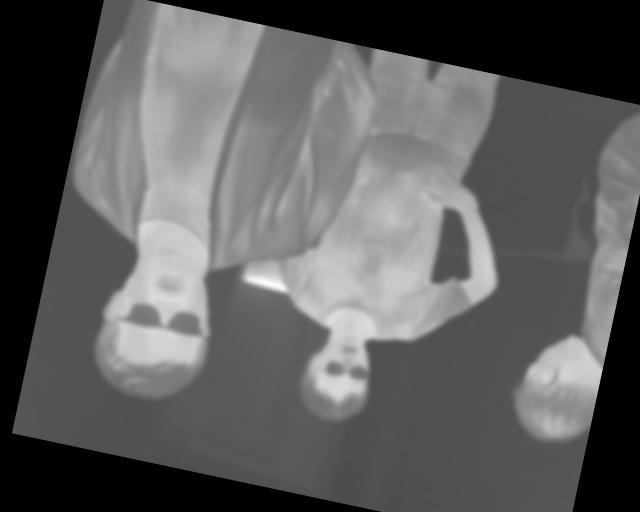face: (86, 238, 226, 410), (293, 326, 381, 428)
